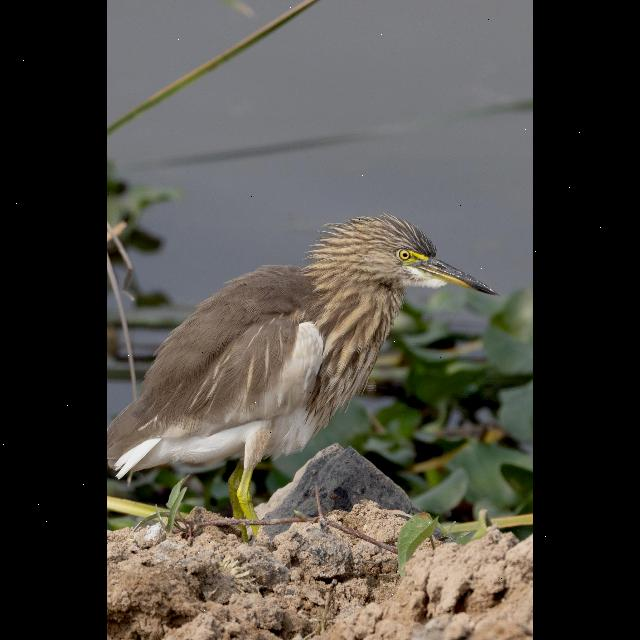heron: (106, 208, 498, 542)
